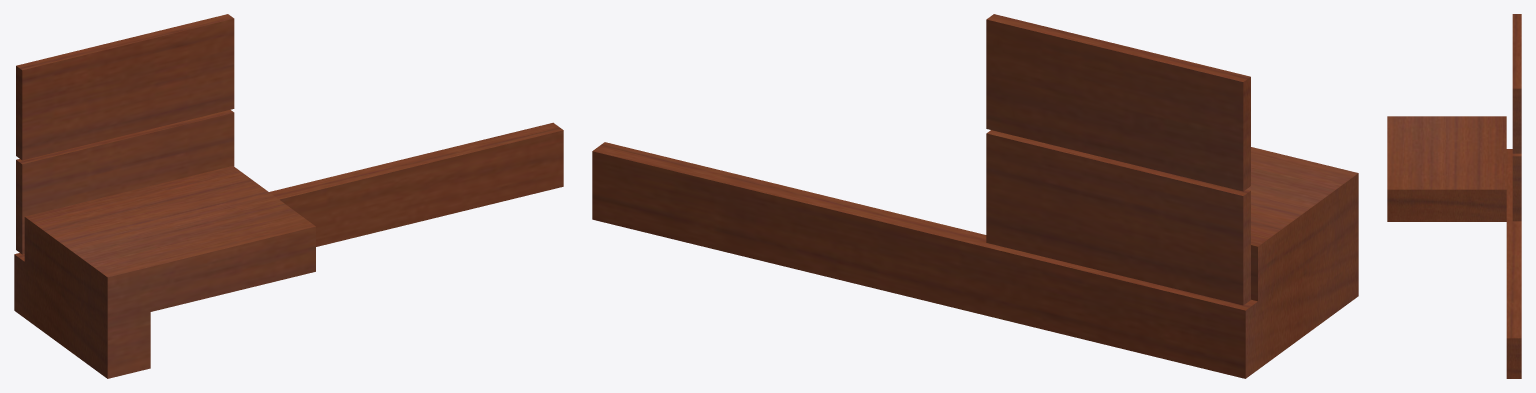
Rendered from sweethome3d-lucapresidente-bedside-table-cherry.glb.
3 views of the same model, side by side, from view 1: azimuth 30°, elevation 25°; view 2: azimuth 150°, elevation 25°; view 3: azimuth 270°, elevation 25° (orthographic). The views are drawn at different scales.
Parts seen in each view (by area): view 1: Box34_1, Line18_4, Box26_2, Box25_3; view 2: Line18_4, Box26_2, Box25_3, Box34_1; view 3: Box34_1, Line18_4, Box26_2, Box25_3.
Part boxes in pixels (bbox=[...]): Box34_1: bbox=[24, 166, 315, 322]; Line18_4: bbox=[14, 122, 563, 378]; Box26_2: bbox=[16, 14, 234, 160]; Box25_3: bbox=[16, 110, 234, 254]; Line18_4: bbox=[592, 142, 1358, 378]; Box26_2: bbox=[986, 14, 1250, 191]; Box25_3: bbox=[986, 130, 1250, 305]; Box34_1: bbox=[1246, 147, 1358, 301]; Box34_1: bbox=[1387, 116, 1506, 221]; Line18_4: bbox=[1506, 149, 1521, 378]; Box26_2: bbox=[1512, 14, 1521, 153]; Box25_3: bbox=[1512, 153, 1521, 221].
Size of the model in its own units: 150 by 65 by 45.
1 material, 1 textured.
